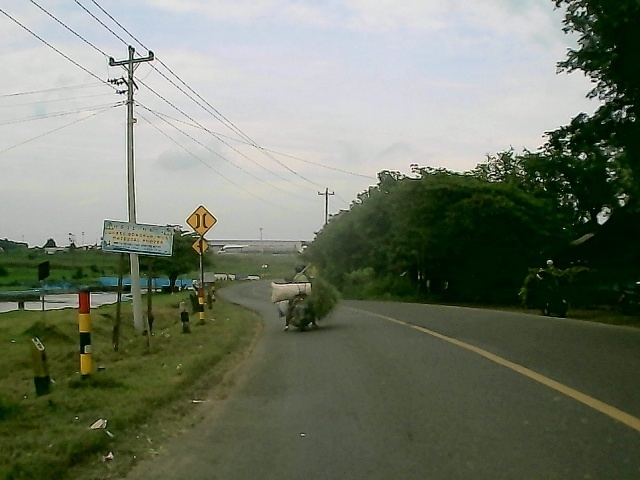Jembatan: (186, 204, 219, 237)
